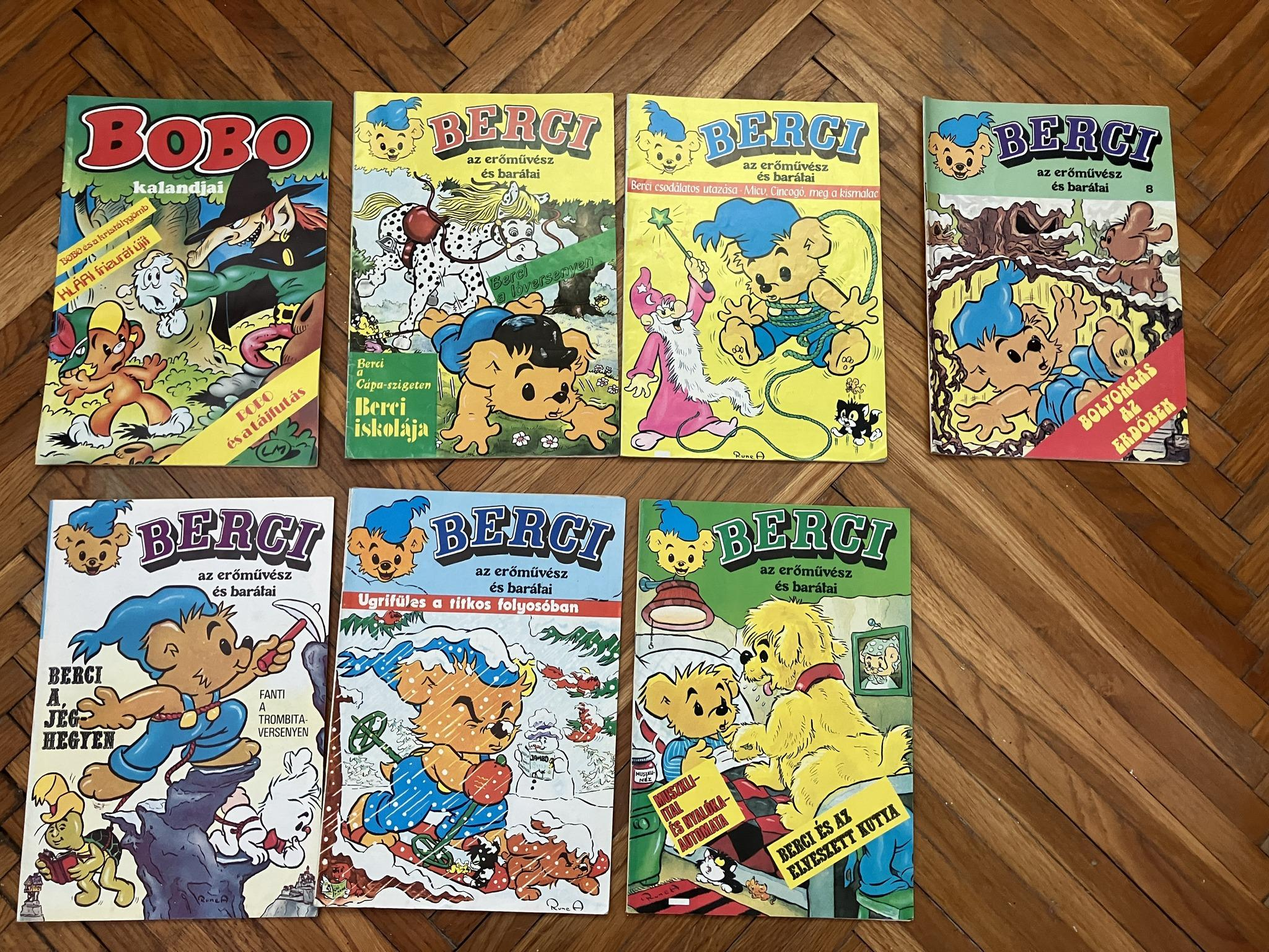comic: (17, 485, 336, 933), (317, 486, 625, 915), (628, 499, 921, 919), (37, 95, 330, 468), (920, 90, 1189, 471), (619, 95, 895, 462), (346, 92, 620, 459)
